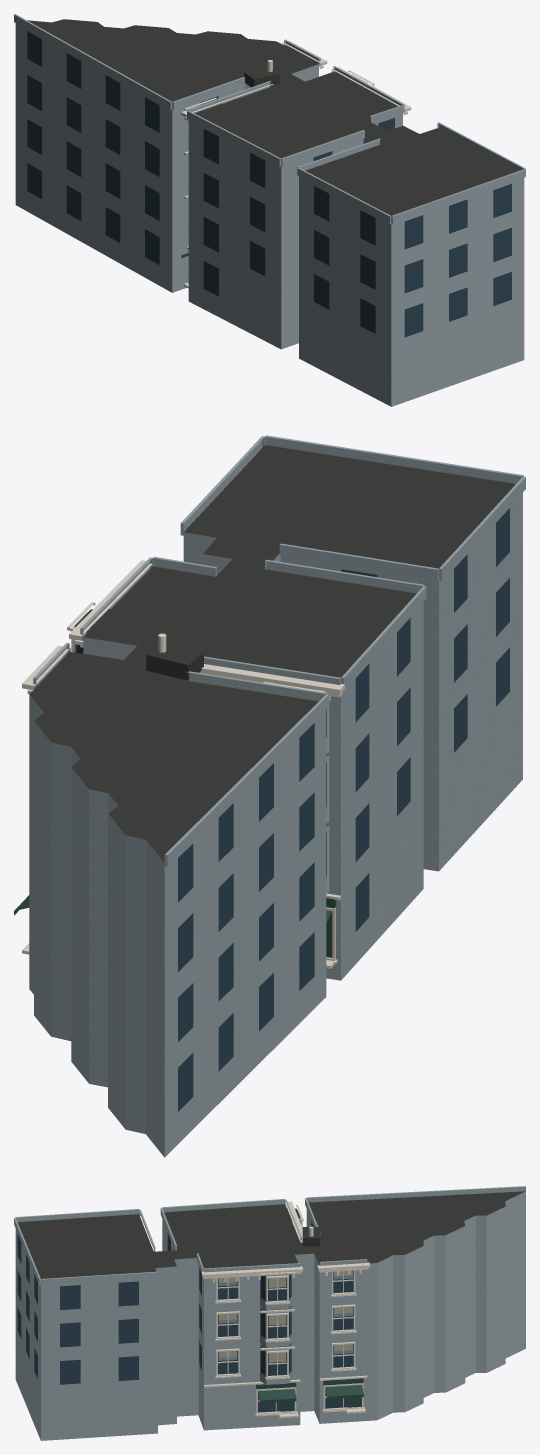
3 views of the same model, one above another, from view 1: azimuth 30°, elevation 25°; view 2: azimuth 150°, elevation 25°; view 3: azimuth 270°, elevation 25° (orthographic). The views are drawn at different scales.
Parts seen in each view (by area): view 1: Footprint 0 / surface 2, Footprint 0 / surface 1, Inset glazing, Facade bay volumes, Cornices and window frames; view 2: Footprint 0 / surface 2, Footprint 0 / surface 1, Inset glazing, Facade bay volumes, Cornices and window frames; view 3: Footprint 0 / surface 2, Footprint 0 / surface 1, Inset glazing, Facade bay volumes, Cornices and window frames, Storefronts and doors, Interior blind variation, Sky reflection panels.
Boxes of the visible parts, x1,y1,x2,y2 form: Footprint 0 / surface 2: [15, 23, 524, 406]; Footprint 0 / surface 1: [27, 19, 517, 215]; Inset glazing: [27, 31, 511, 337]; Facade bay volumes: [14, 14, 525, 223]; Cornices and window frames: [181, 40, 411, 288]; Footprint 0 / surface 2: [29, 493, 522, 1157]; Footprint 0 / surface 1: [29, 445, 515, 862]; Inset glazing: [76, 508, 509, 1111]; Facade bay volumes: [33, 435, 525, 892]; Cornices and window frames: [22, 560, 344, 968]; Footprint 0 / surface 2: [15, 1191, 525, 1440]; Footprint 0 / surface 1: [17, 1191, 525, 1278]; Inset glazing: [17, 1221, 359, 1412]; Facade bay volumes: [14, 1186, 525, 1384]; Cornices and window frames: [201, 1201, 370, 1418]; Storefronts and doors: [256, 1378, 363, 1411]; Interior blind variation: [218, 1270, 352, 1362]; Sky reflection panels: [218, 1271, 352, 1395].
Size of the model in its own units: 15.51 by 13.46 by 35.86.
